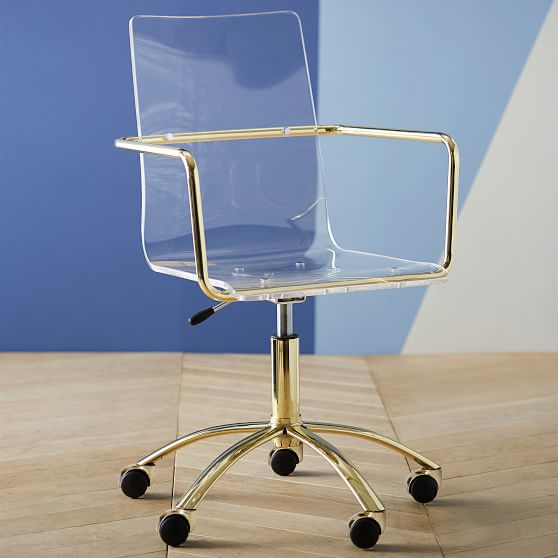chairs: (104, 10, 464, 550)
